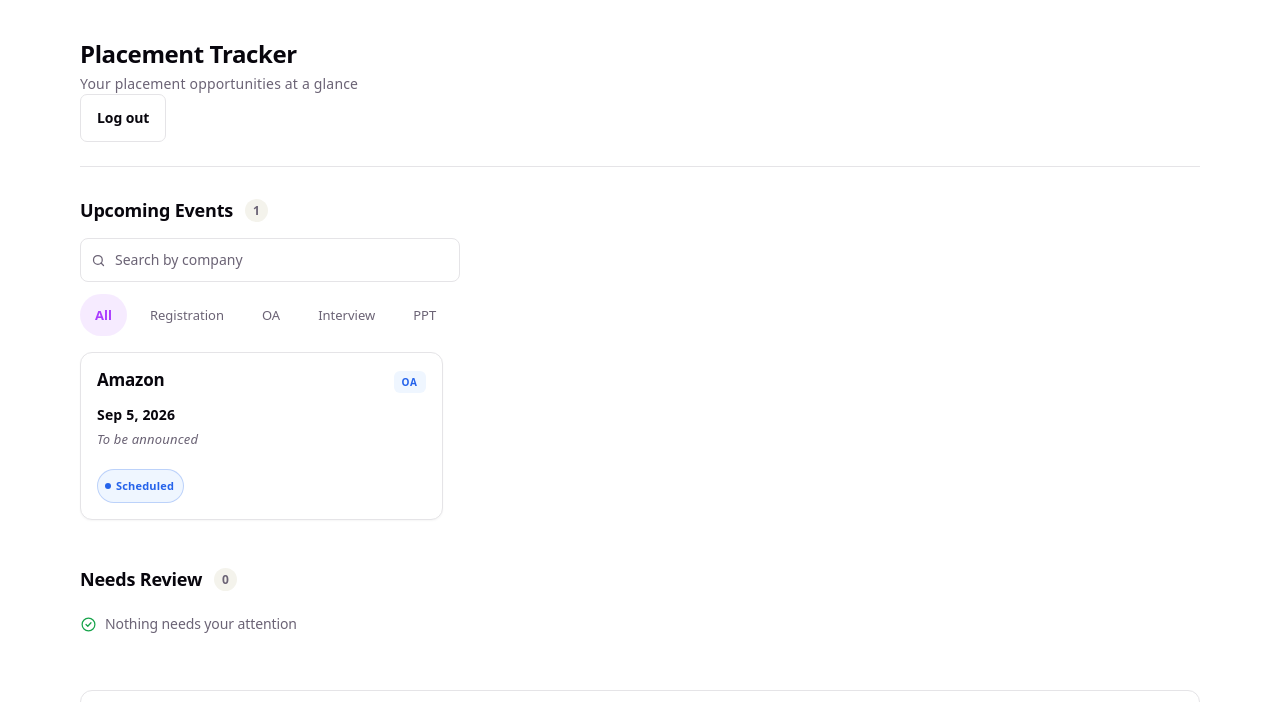
it: a failed logout leaves the user signed in › reports a server failure
The width and height of the screenshot is (1280, 702).
Step 1. Click the button "Log out" → coordinates (123, 118), box 80,94 -> 166,142
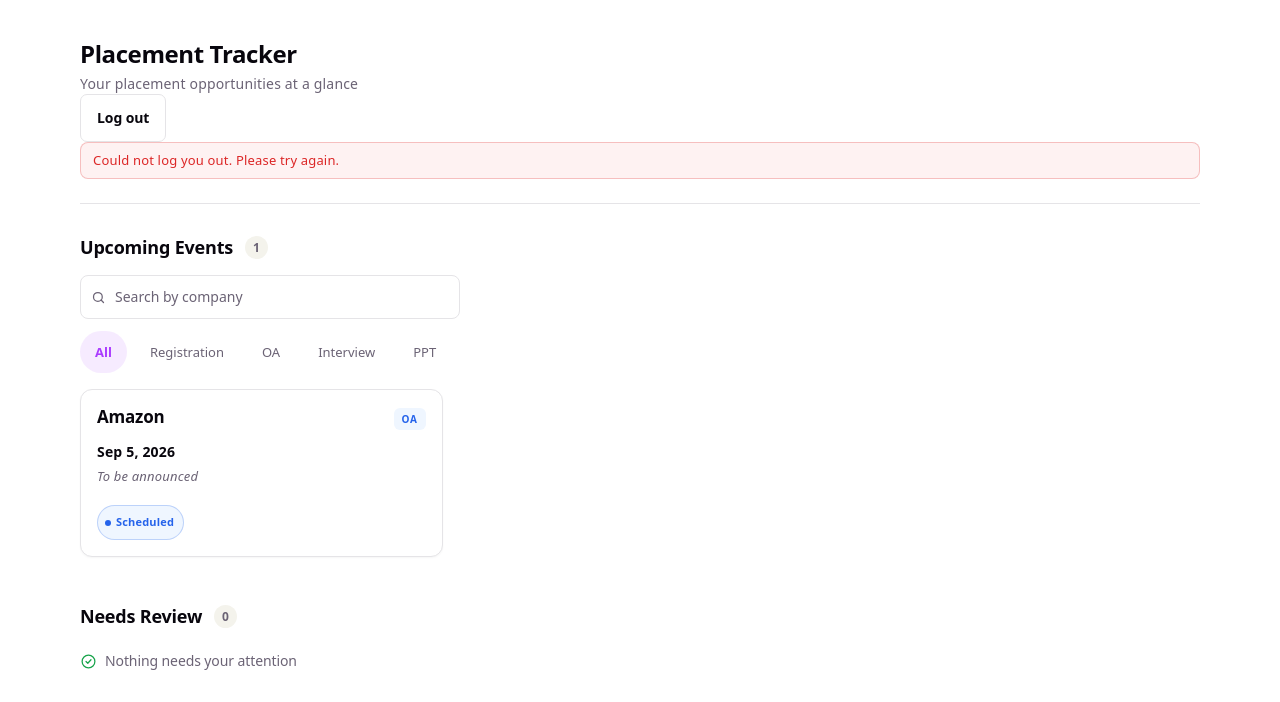
Expected: the message "Could not log you out. Please try again." is shown, 80,142 -> 1200,179
